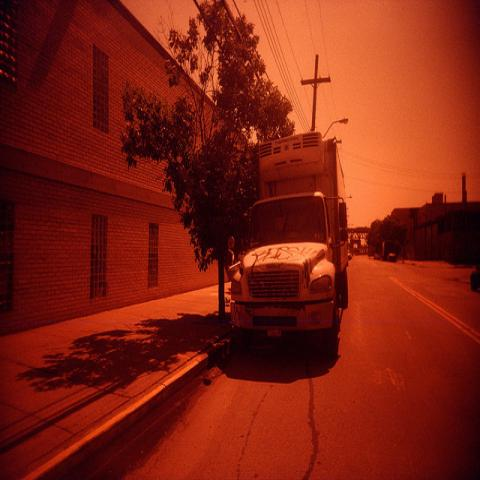car: (387, 253, 396, 260), (348, 250, 350, 260)
truck: (228, 130, 349, 363)
